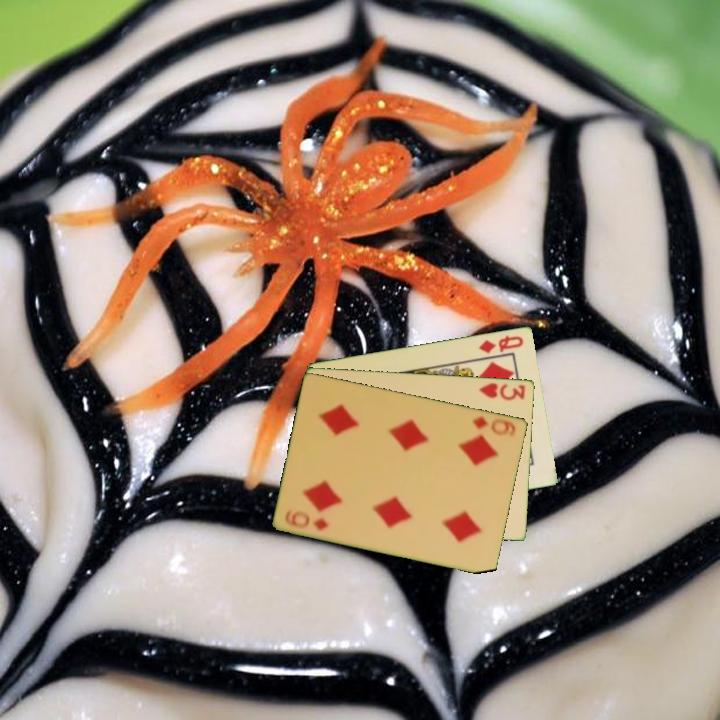3h: (476, 379, 528, 403)
6d: (469, 413, 519, 439), (288, 508, 331, 533)
Qd: (475, 331, 526, 356)
